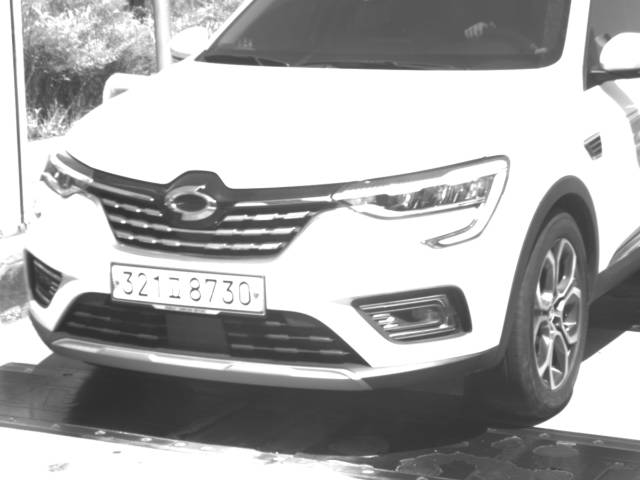car: (19, 1, 639, 423)
plate: (110, 261, 269, 319)
